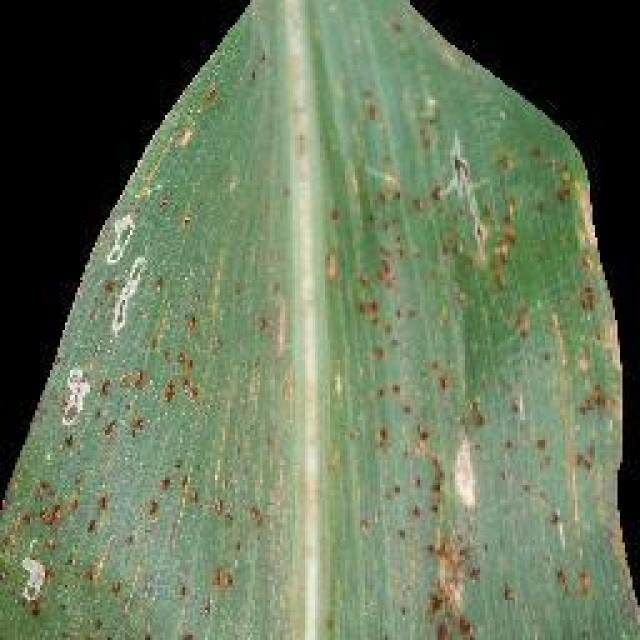Corn Common Rust: (52, 42, 578, 633)
